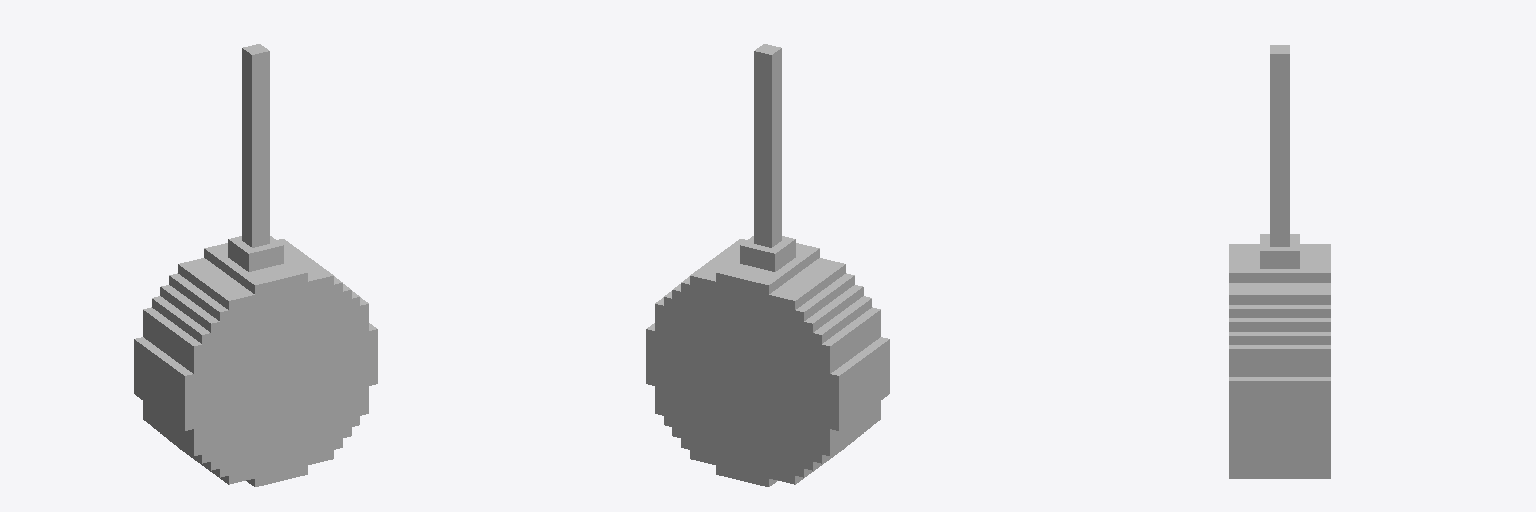
The model's file is Going Down 6.obj.
The picture shows the model from 3 angles: view 1: azimuth 30°, elevation 25°; view 2: azimuth 150°, elevation 25°; view 3: azimuth 270°, elevation 25°; orthographic projection.
Size of the model in its own units: 22 by 45 by 10.